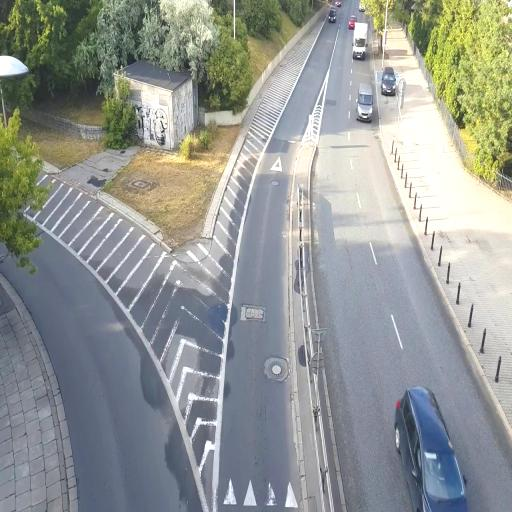vehicle: (394, 386, 469, 512), (351, 19, 371, 61), (356, 80, 374, 122), (380, 67, 398, 96)
